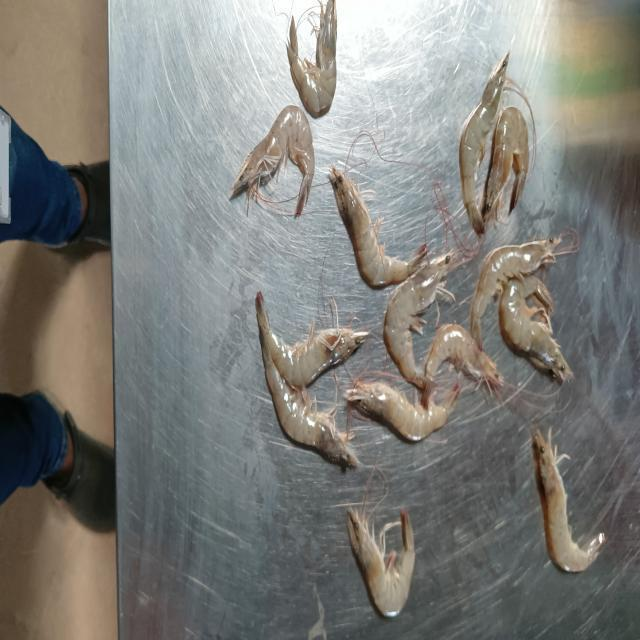shrimp: (256, 292, 358, 467), (470, 228, 579, 350), (330, 166, 426, 288), (256, 292, 368, 387), (532, 427, 605, 571), (384, 250, 456, 390), (230, 106, 315, 217), (459, 53, 509, 235), (499, 274, 572, 383), (348, 507, 415, 618), (345, 383, 460, 440), (425, 323, 504, 398), (288, 0, 338, 117), (484, 106, 529, 224)
